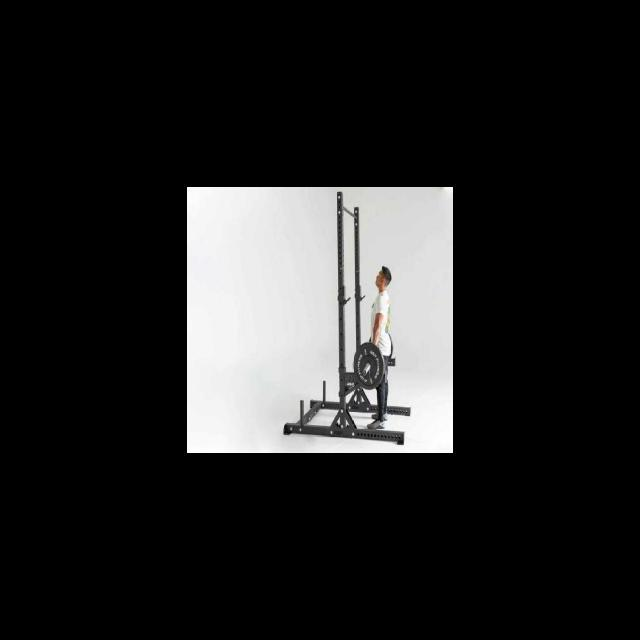barbell: (349, 339, 388, 391)
